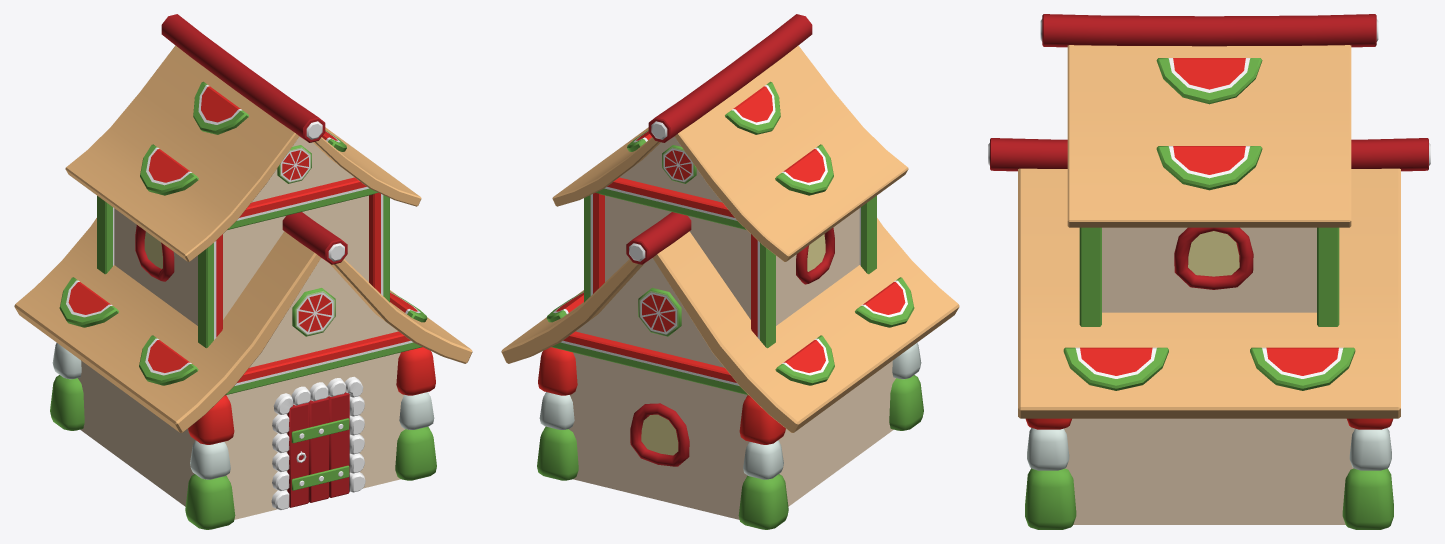
File: House_5.fbx
3 renders of one model, left to right at view 1: azimuth 30°, elevation 25°; view 2: azimuth 150°, elevation 25°; view 3: azimuth 270°, elevation 25°, orthographic. The views are drawn at different scales.
Visible parts, largest first — view 1: House_5; view 2: House_5; view 3: House_5.
Part boxes in pixels (<box>): House_5: <box>14,14,472,529</box>; House_5: <box>501,14,959,529</box>; House_5: <box>988,14,1430,529</box>.
Bounding box in the file's own units: 6.93 × 8.52 × 7.6.
